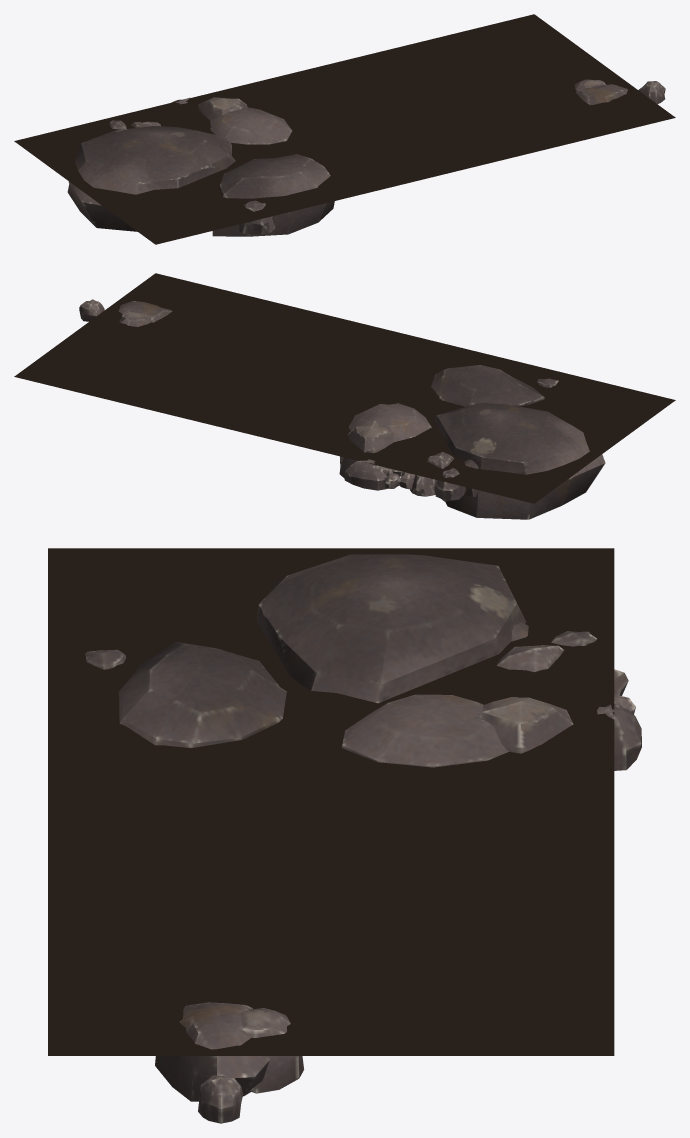
3 renders of one model, top to bottom at view 1: azimuth 30°, elevation 25°; view 2: azimuth 150°, elevation 25°; view 3: azimuth 270°, elevation 25°, orthographic. The views are drawn at different scales.
Parts seen in each view (by area): view 1: GroundShade, Stones; view 2: GroundShade, Stones; view 3: GroundShade, Stones.
Part boxes in pixels (x1=…): GroundShade: x1=14, y1=14, x2=675, y2=244; Stones: x1=67, y1=79, x2=665, y2=236; GroundShade: x1=14, y1=273, x2=675, y2=503; Stones: x1=79, y1=299, x2=605, y2=519; GroundShade: x1=48, y1=548, x2=614, y2=1055; Stones: x1=85, y1=554, x2=641, y2=1123.
Bounding box in the file's own units: 48.55 × 6.14 × 22.5.
2 materials, 2 textured.
